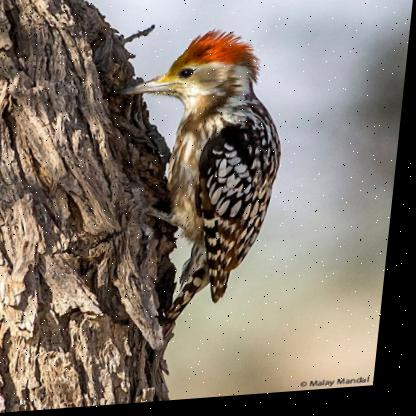Burung: (90, 27, 297, 350)
